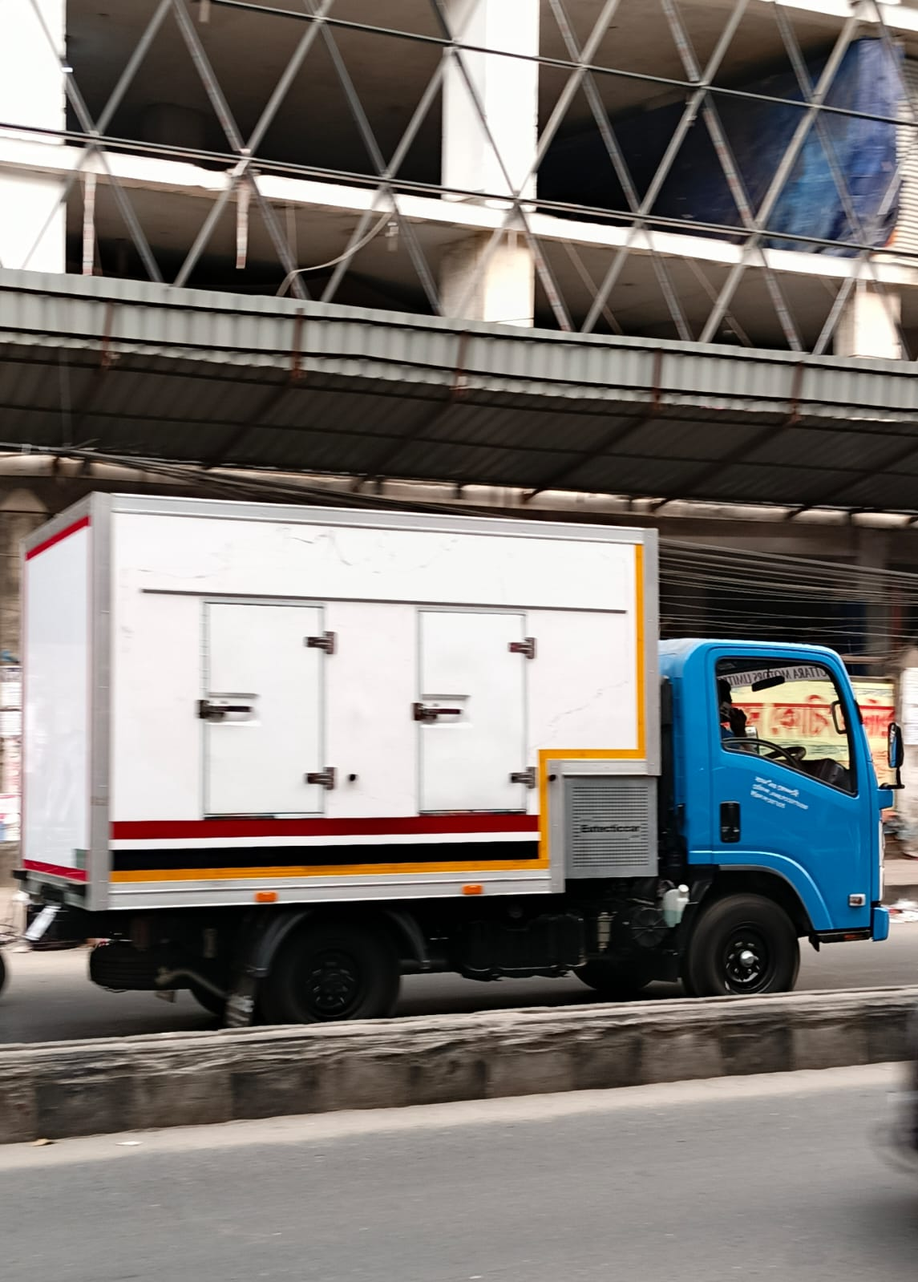Truck: (0, 494, 903, 988)
